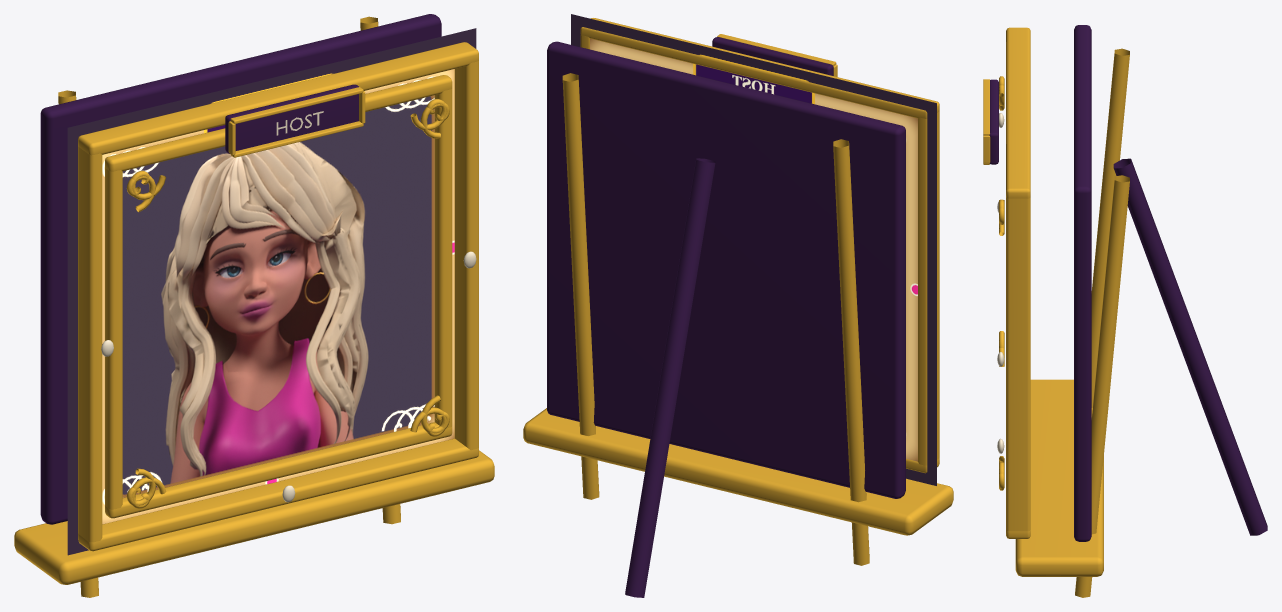
The model's file is prime.frame.room-host.glb.
3 renders of one model, left to right at view 1: azimuth 30°, elevation 25°; view 2: azimuth 150°, elevation 25°; view 3: azimuth 270°, elevation 25°, orthographic. The views are drawn at different scales.
Visible parts, largest first — view 1: artwork, print_support, shelf_lip, cast_outer_moulding_stile, cast_outer_moulding_stile.001, cast_outer_moulding_rail, cast_outer_moulding_rail.001, inner_bead_stile, inner_bead_stile.001, inner_bead_rail, host_enamel_plaque, inner_bead_rail.001 (+2 smaller); view 2: print_support, artwork, shelf_lip, back_leg, easel_leg, easel_leg.001, cast_outer_moulding_rail.001, cast_outer_moulding_stile, host_enamel_plaque; view 3: shelf_lip, print_support, cast_outer_moulding_stile.001, back_leg, easel_leg.001, easel_leg, cast_outer_moulding_rail.001, host_enamel_plaque, host_plaque_edge.001.
Part boxes in pixels (x1,y1,x2,y2): artwork: [67, 28, 476, 555]; print_support: [40, 14, 441, 524]; shelf_lip: [14, 450, 494, 584]; cast_outer_moulding_stile: [78, 146, 102, 542]; cast_outer_moulding_stile.001: [454, 61, 478, 450]; cast_outer_moulding_rail: [78, 438, 478, 551]; cast_outer_moulding_rail.001: [78, 42, 478, 155]; inner_bead_stile: [105, 167, 122, 509]; inner_bead_stile.001: [434, 89, 452, 428]; inner_bead_rail: [105, 422, 452, 518]; host_enamel_plaque: [225, 84, 358, 153]; inner_bead_rail.001: [105, 75, 452, 171]; print_support: [547, 41, 905, 498]; artwork: [571, 14, 936, 485]; shelf_lip: [523, 408, 953, 535]; back_leg: [625, 158, 715, 597]; easel_leg: [833, 139, 869, 565]; easel_leg.001: [562, 73, 599, 499]; cast_outer_moulding_rail.001: [580, 18, 939, 118]; cast_outer_moulding_stile: [918, 111, 939, 465]; host_enamel_plaque: [712, 37, 833, 75]; shelf_lip: [1015, 379, 1103, 576]; print_support: [1074, 25, 1091, 541]; cast_outer_moulding_stile.001: [1006, 197, 1030, 531]; back_leg: [1113, 158, 1267, 535]; easel_leg.001: [1075, 175, 1129, 597]; easel_leg: [1091, 48, 1129, 407]; cast_outer_moulding_rail.001: [1006, 27, 1030, 198]; host_enamel_plaque: [989, 79, 998, 164]; host_plaque_edge.001: [983, 79, 989, 135].
Bounding box in the file's own units: 0.6764 × 0.75 × 0.447.
Materials: 4 (1 with a texture image).
